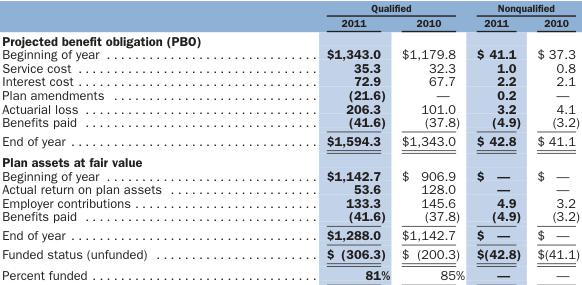table: (1, 0, 578, 282)
table column: (1, 0, 243, 282), (243, 0, 394, 282), (394, 0, 469, 282), (469, 0, 528, 282), (528, 0, 578, 282)
table column header: (1, 0, 578, 30)
table projected row header: (1, 30, 578, 47), (1, 151, 578, 168)
table row: (1, 131, 578, 151), (1, 244, 578, 264), (1, 225, 578, 244), (1, 264, 578, 282), (1, 30, 578, 47), (1, 114, 578, 131), (1, 151, 578, 168), (1, 14, 578, 30), (1, 209, 578, 225), (1, 0, 578, 14), (1, 60, 578, 74), (1, 87, 578, 101), (1, 168, 578, 182), (1, 195, 578, 209), (1, 47, 578, 60), (1, 74, 578, 87), (1, 101, 578, 114), (1, 182, 578, 195)
table spanning cell: (243, 0, 469, 14), (469, 0, 578, 14)
